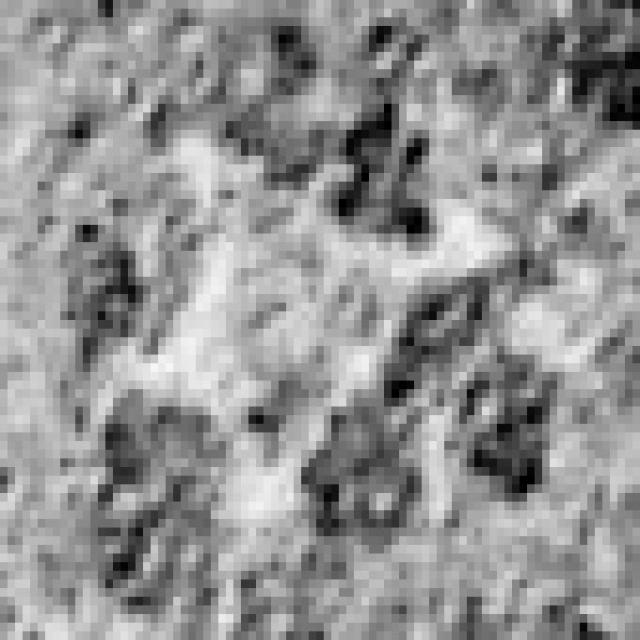inner: (202, 187, 404, 470)
lobe: (376, 265, 563, 513), (90, 384, 237, 617), (67, 170, 208, 373), (191, 17, 337, 188), (301, 392, 423, 554), (324, 101, 446, 258)
outer: (12, 6, 622, 640)
